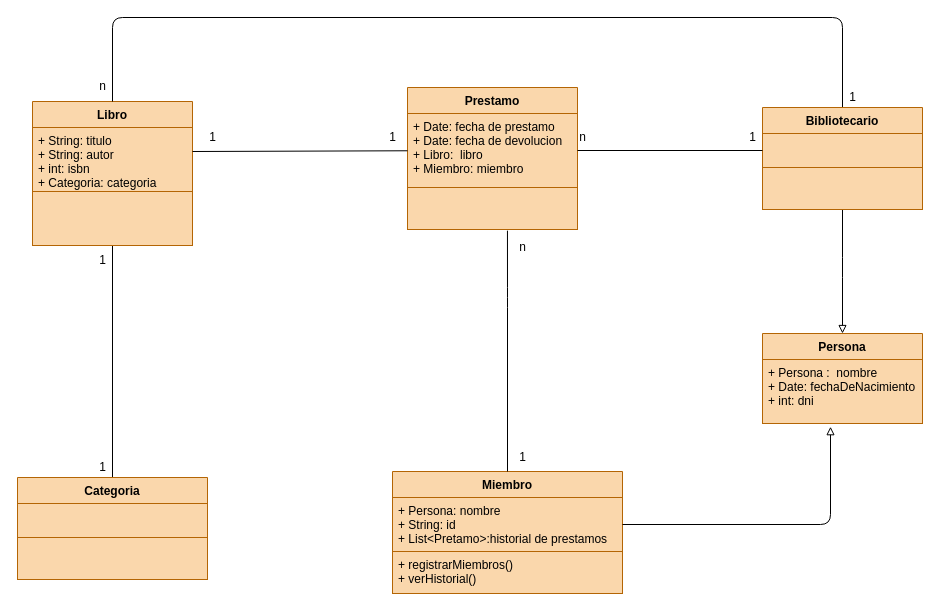
This 940x614 diagram has some shape labels left out. Each missing label, with the centre of its shape:
"+ agregarCategoria() + listarLibrosPorCategoria()" belongs at (112,558).
"+ CalcularMultaPorRetraso() + marcarComoDevuelto()" belongs at (492,208).
"+ Persona: nombre + int: id" belongs at (842,150).
"+ registrarLibros() + gestionarPrestamos()" belongs at (842,188).
"+ String: nombre de la categoria + String: descripcion" belongs at (112,520).
"+ verificarDisponibilidad() + verHistorial()" belongs at (112,218).
